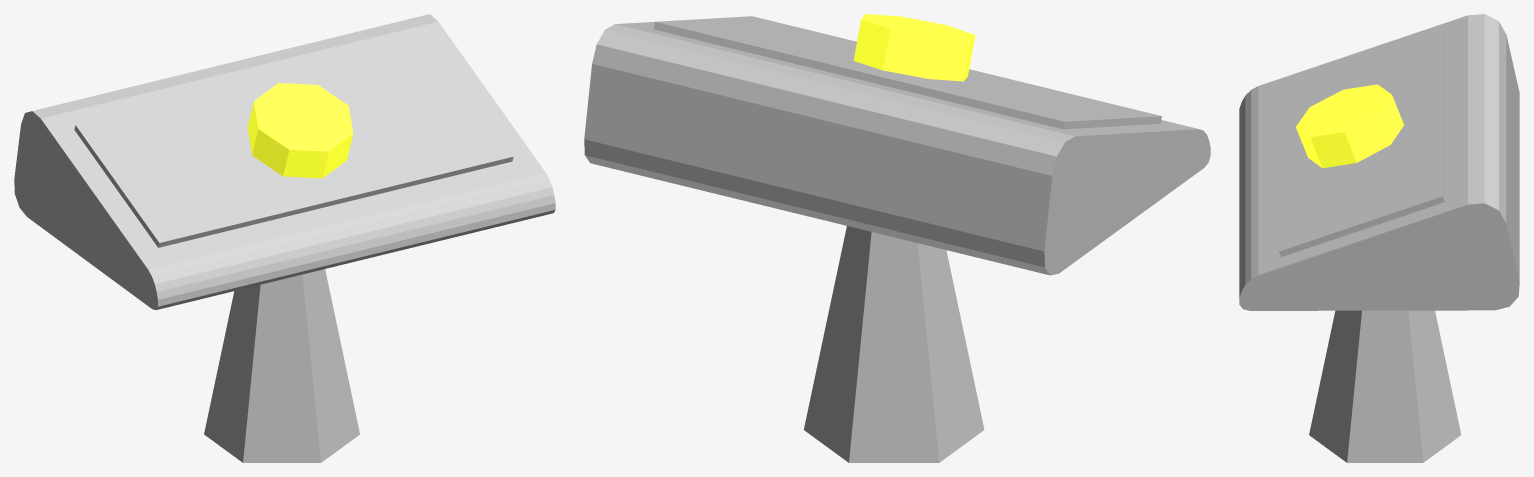
The model's file is Buitton Base.fbx.
3 renders of one model, left to right at view 1: azimuth 30°, elevation 25°; view 2: azimuth 150°, elevation 25°; view 3: azimuth 270°, elevation 25°, orthographic. The views are drawn at different scales.
Parts seen in each view (by area): view 1: Cube, Base, Button; view 2: Cube, Base, Button; view 3: Cube, Base, Button.
Part boxes in pixels (box(x1,y1,x2,y2)): Cube: box(14, 14, 555, 309); Base: box(204, 269, 359, 462); Button: box(247, 83, 353, 178); Cube: box(584, 16, 1210, 275); Base: box(804, 226, 984, 462); Button: box(853, 14, 975, 81); Cube: box(1239, 14, 1519, 310); Base: box(1309, 310, 1461, 462); Button: box(1296, 84, 1403, 168).
Bounding box in the file's own units: 117 × 97.76 × 73.04.
